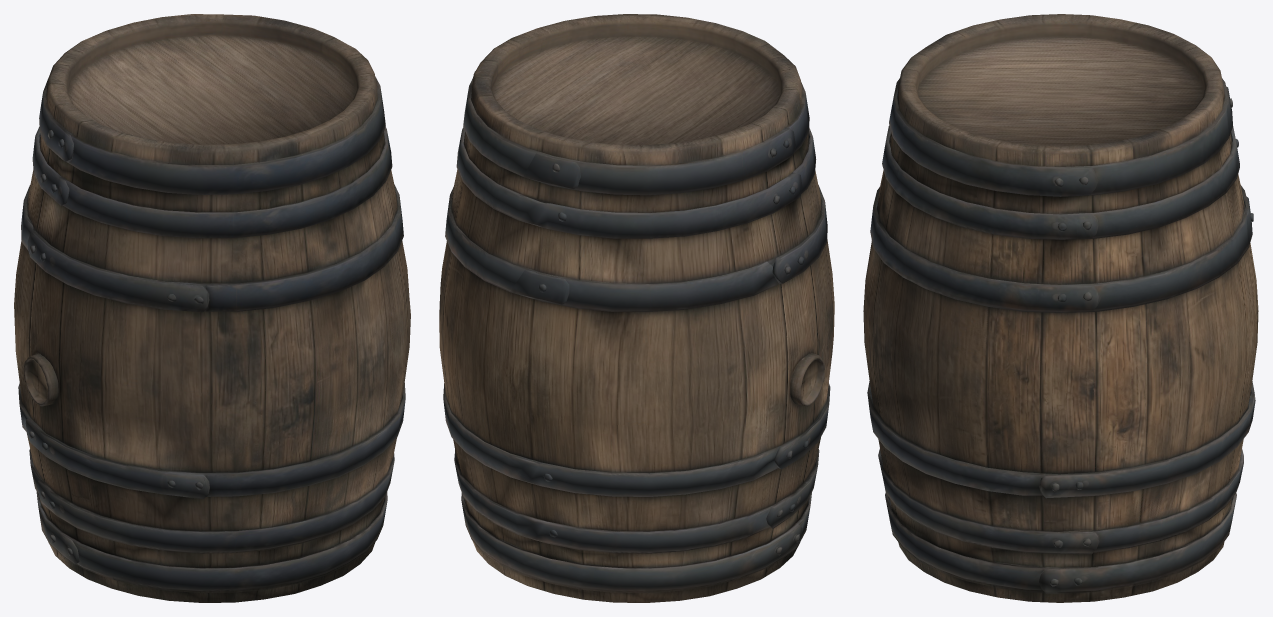
3 renders of one model, left to right at view 1: azimuth 30°, elevation 25°; view 2: azimuth 150°, elevation 25°; view 3: azimuth 270°, elevation 25°, orthographic.
Parts seen in each view (by area): view 1: tripo_node_8e672112-3929-4755-bfc9-b5a3ddf330dd; view 2: tripo_node_8e672112-3929-4755-bfc9-b5a3ddf330dd; view 3: tripo_node_8e672112-3929-4755-bfc9-b5a3ddf330dd.
Part boxes in pixels (bbox=[...]): tripo_node_8e672112-3929-4755-bfc9-b5a3ddf330dd: bbox=[14, 14, 410, 602]; tripo_node_8e672112-3929-4755-bfc9-b5a3ddf330dd: bbox=[439, 14, 834, 602]; tripo_node_8e672112-3929-4755-bfc9-b5a3ddf330dd: bbox=[863, 14, 1258, 602].
Size of the model in its own units: 0.8066 by 0.998 by 0.791.
Materials: 1 (1 with a texture image).
